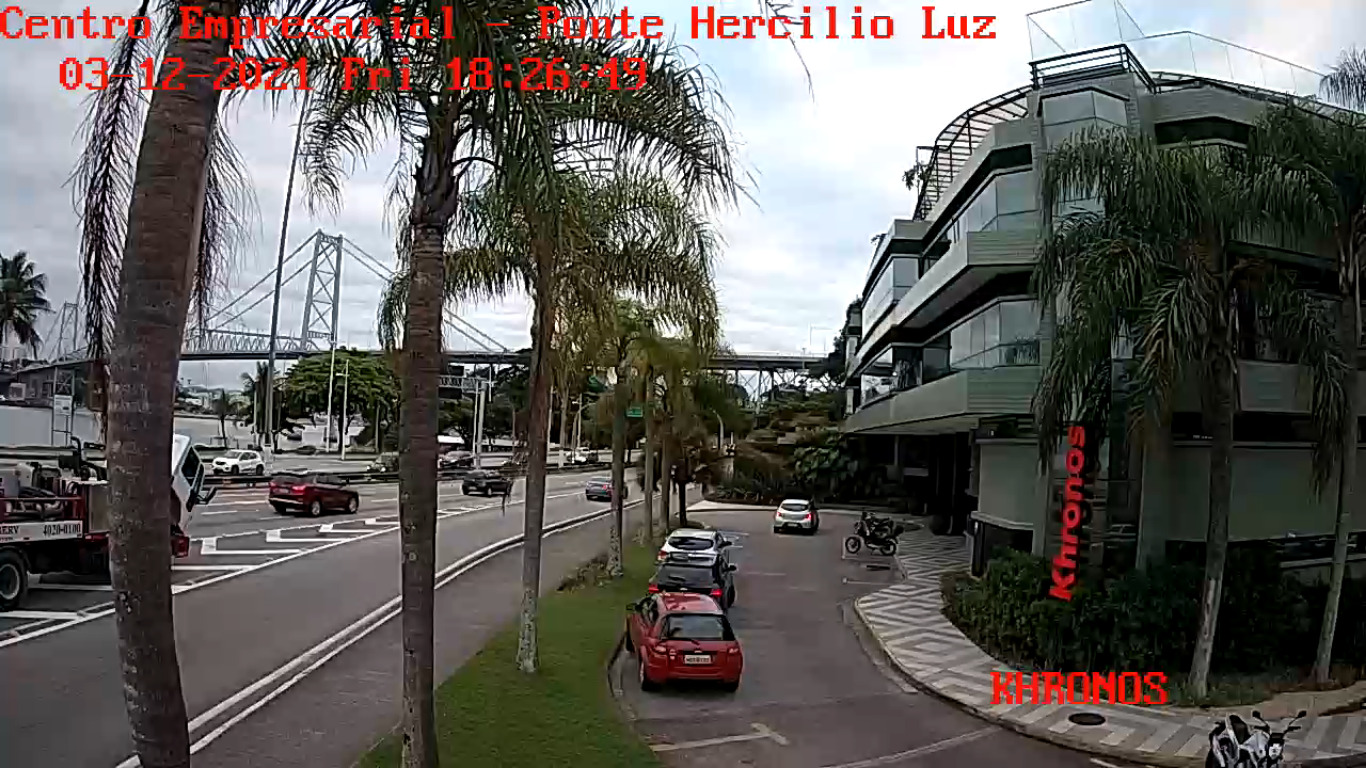car: (619, 589, 744, 692), (645, 545, 740, 619), (266, 467, 360, 517), (772, 491, 821, 537), (460, 467, 512, 497), (584, 474, 630, 504)
misc: (1049, 424, 1086, 602), (1068, 709, 1107, 729)
motorcycle: (1197, 705, 1309, 768), (844, 514, 900, 556)
